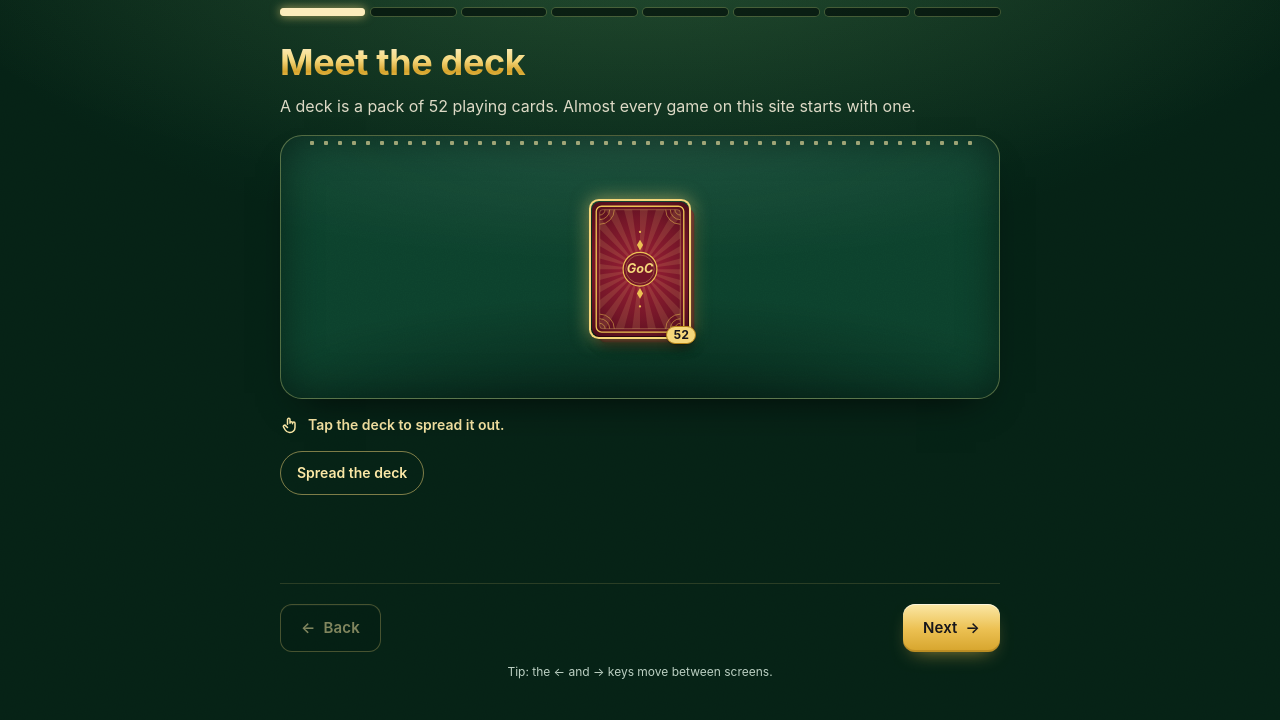
Test: Primer navigation › moves forward and back with the Next and Back buttons
(page scrolled)
Expected: the heading "Meet the deck" is shown, left=280, top=40, right=1000, bottom=85
Click the button "Next →" at (951, 628), box left=903, top=604, right=1000, bottom=652
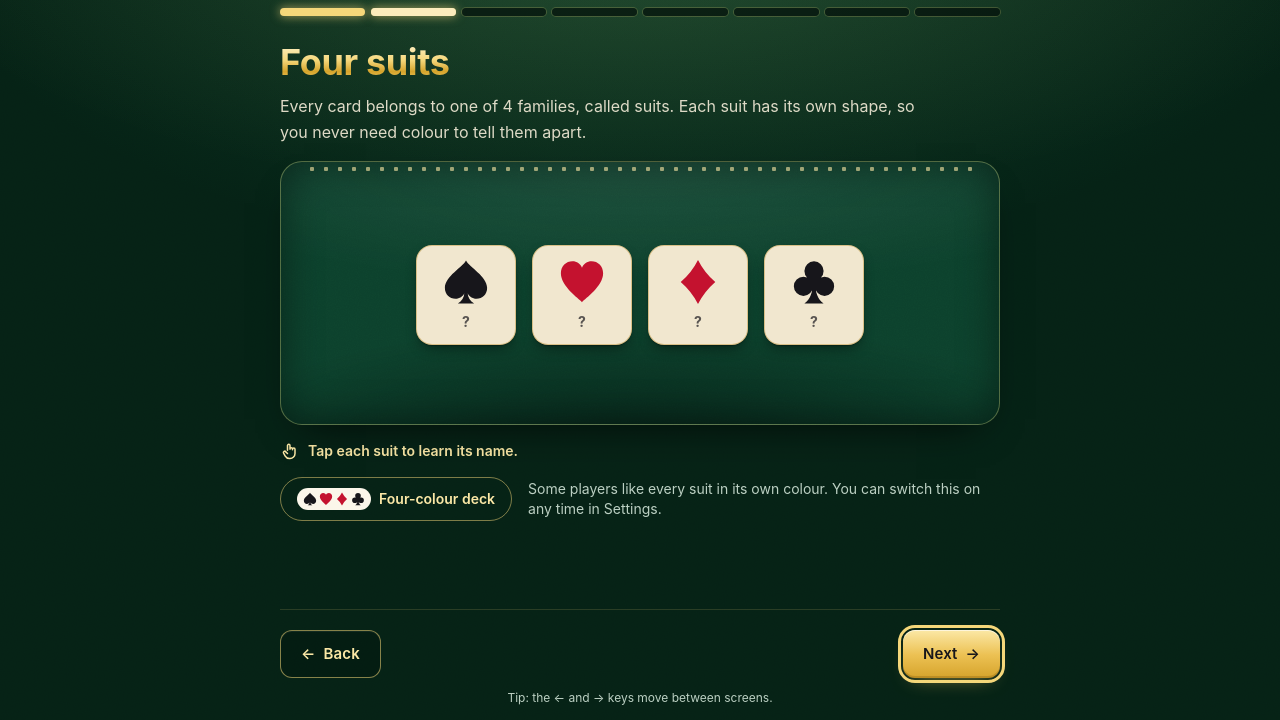
Expected: the heading "Four suits" is shown, left=280, top=40, right=1000, bottom=85
Click the button "← Back" at (330, 654), box left=280, top=630, right=381, bottom=678
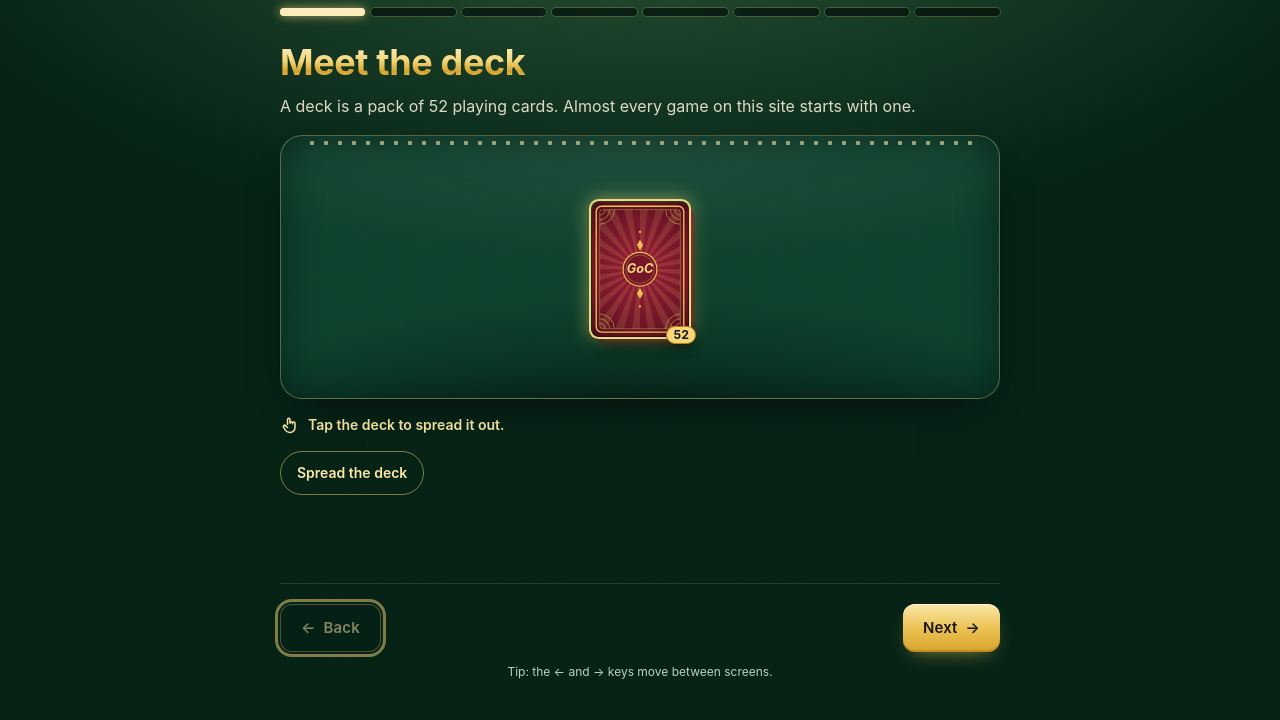
Expected: the heading "Meet the deck" is shown, left=280, top=40, right=1000, bottom=85
